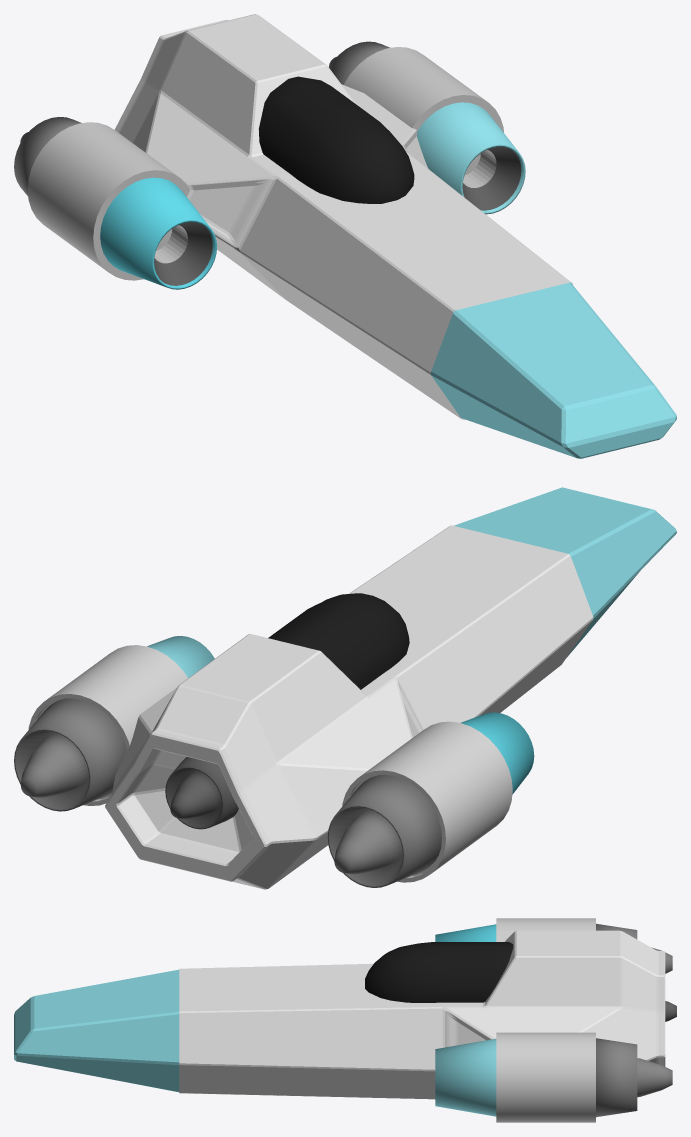
The model's file is SpaceShip.fbx.
3 renders of one model, top to bottom at view 1: azimuth 30°, elevation 25°; view 2: azimuth 150°, elevation 25°; view 3: azimuth 270°, elevation 25°, orthographic. The views are drawn at different scales.
Parts seen in each view (by area): view 1: Cube, Cube.001, Icosphere, Cylinder.008, Cylinder.001, Cylinder.005, Cylinder.006, Cylinder.009, Cylinder.000, Cylinder.007, Cylinder.010, Cylinder.003 (+1 smaller); view 2: Cube, Cube.001, Cylinder.008, Cylinder.010, Cylinder.002, Icosphere, Cylinder.005, Cylinder.004, Cylinder.001, Cylinder.006, Cylinder.009, Cylinder.003; view 3: Cube, Cube.001, Cylinder.005, Icosphere, Cylinder.006, Cylinder.002, Cylinder.008, Cylinder.001, Cylinder.010.
Boxes of the visible parts, x1,y1,x2,y2 form: Cube: [114, 14, 573, 419]; Cube.001: [431, 282, 676, 458]; Icosphere: [258, 76, 414, 203]; Cylinder.008: [27, 122, 178, 270]; Cylinder.001: [100, 177, 217, 289]; Cylinder.005: [344, 47, 486, 127]; Cylinder.006: [416, 102, 525, 214]; Cylinder.009: [93, 170, 189, 280]; Cylinder.000: [154, 222, 212, 285]; Cylinder.007: [462, 146, 521, 210]; Cylinder.010: [14, 117, 81, 196]; Cylinder.003: [412, 95, 503, 187]; Cube: [105, 525, 593, 889]; Cube.001: [454, 487, 676, 656]; Cylinder.008: [359, 721, 512, 873]; Cylinder.010: [327, 774, 441, 887]; Cylinder.002: [14, 698, 126, 811]; Icosphere: [268, 593, 409, 689]; Cylinder.005: [45, 645, 187, 745]; Cylinder.004: [165, 757, 238, 829]; Cylinder.001: [461, 712, 534, 794]; Cylinder.006: [147, 636, 214, 677]; Cylinder.009: [342, 770, 445, 882]; Cylinder.003: [28, 694, 129, 805]; Cube: [179, 930, 665, 1099]; Cube.001: [14, 969, 179, 1092]; Cylinder.005: [496, 1032, 595, 1122]; Icosphere: [365, 942, 513, 1002]; Cylinder.006: [435, 1038, 496, 1116]; Cylinder.002: [596, 1038, 672, 1117]; Cylinder.008: [496, 918, 595, 941]; Cylinder.001: [435, 924, 496, 941]; Cylinder.010: [596, 923, 672, 973].
Size of what is drawn, in the model's own units: 390 by 164 by 717.
